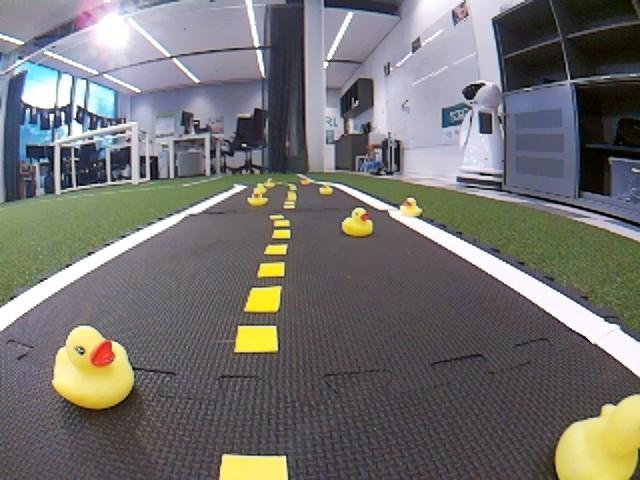Duckies: (541, 395, 640, 480), (51, 325, 136, 410), (342, 208, 374, 235), (400, 197, 423, 215), (246, 189, 272, 204), (318, 184, 331, 195), (301, 176, 312, 184)
